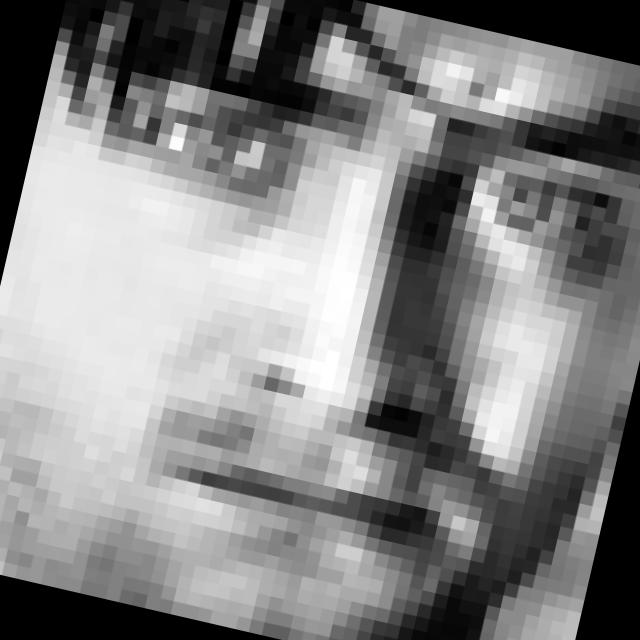neutral: (6, 0, 640, 620)
